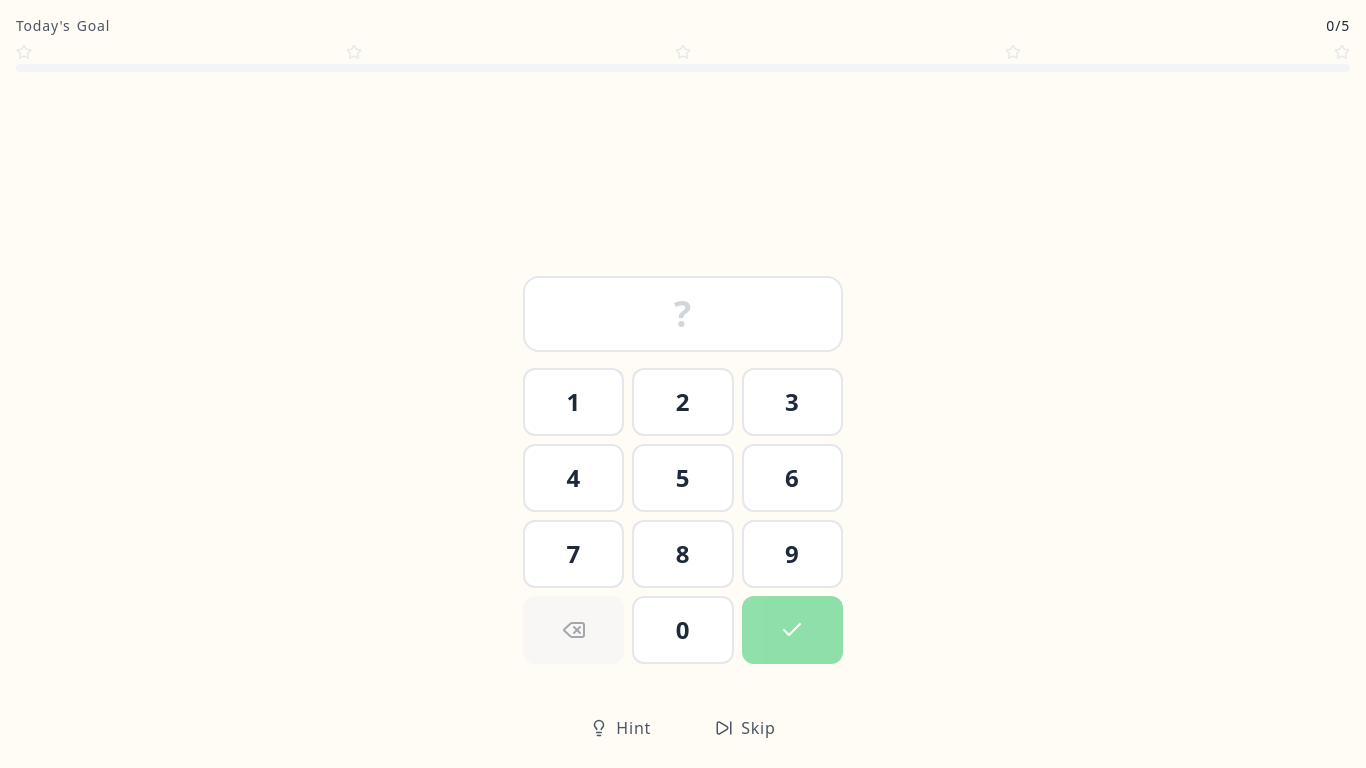
Test: PracticeView › attempt timing › clears typed digits when a skip serves the next problem
Click the button "3". click: {"x": 792, "y": 402}
box: [742, 368, 843, 436]
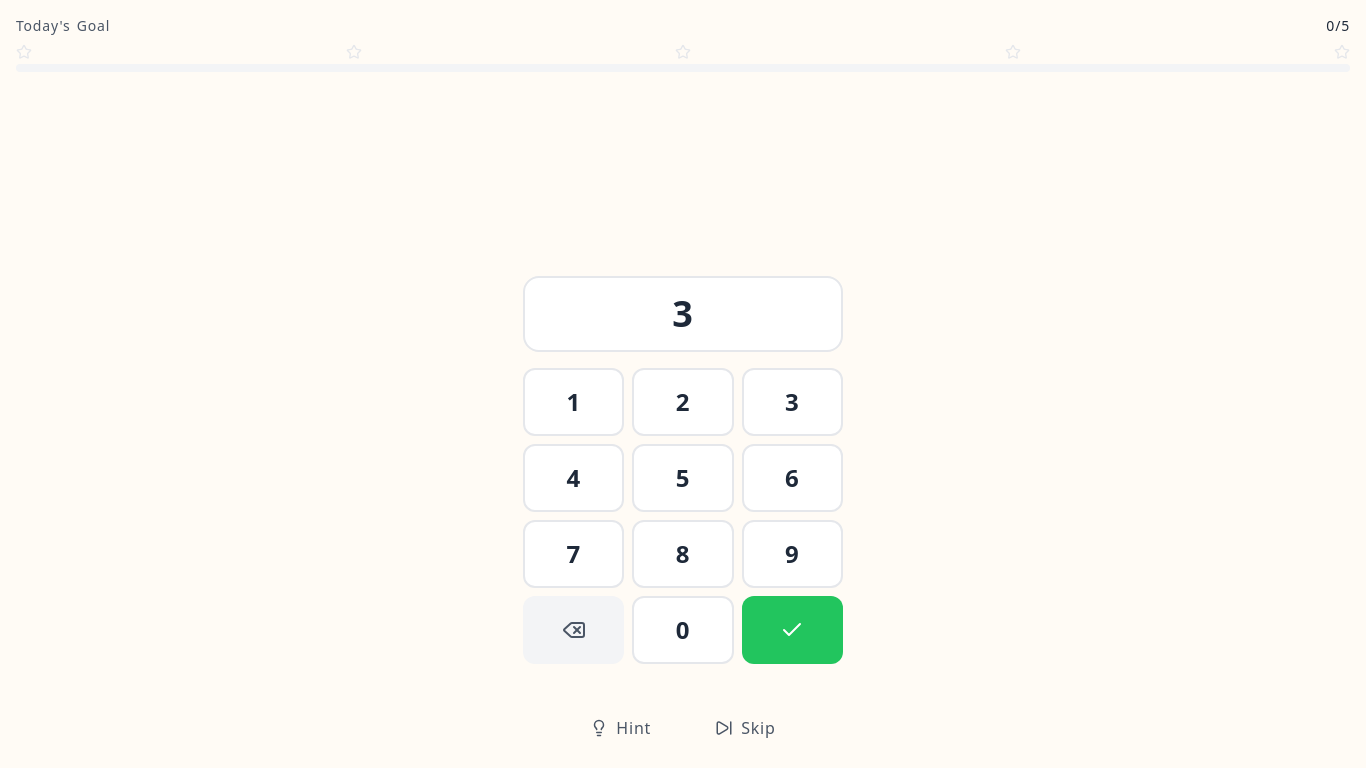
Click the button "Skip". click: {"x": 745, "y": 728}
box: [691, 704, 800, 752]
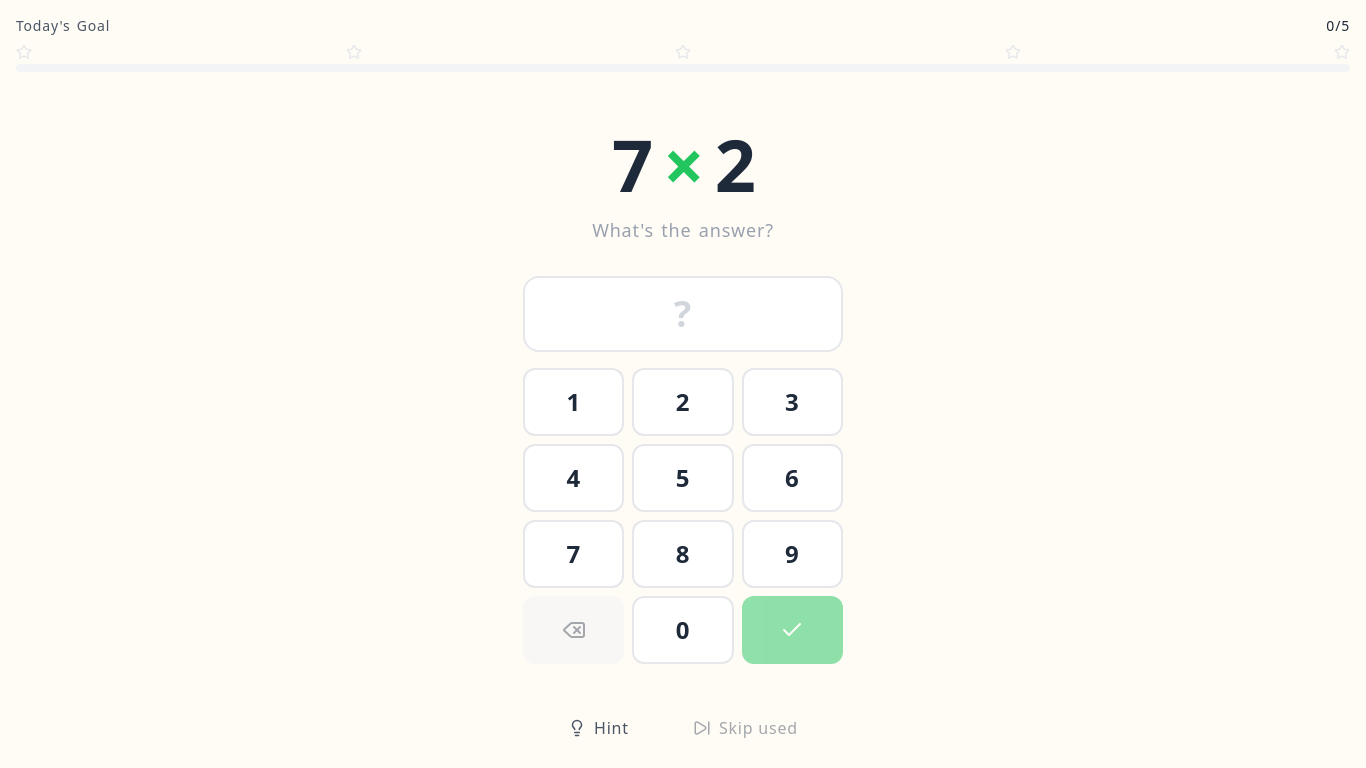
Now the button named "Submit answer" is disabled, box [742, 596, 843, 664]
